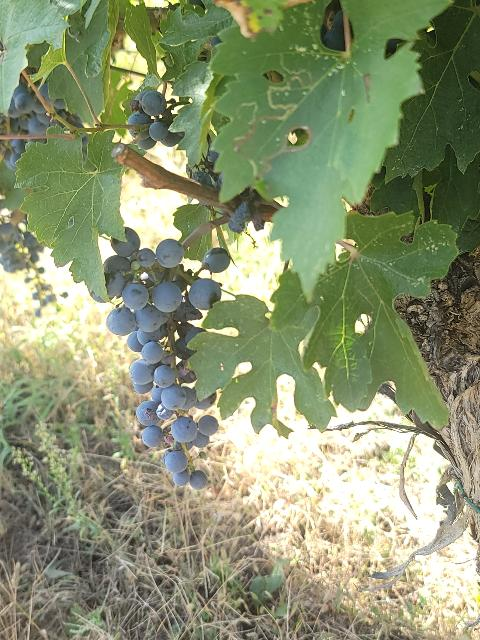grapes: (104, 228, 230, 489)
